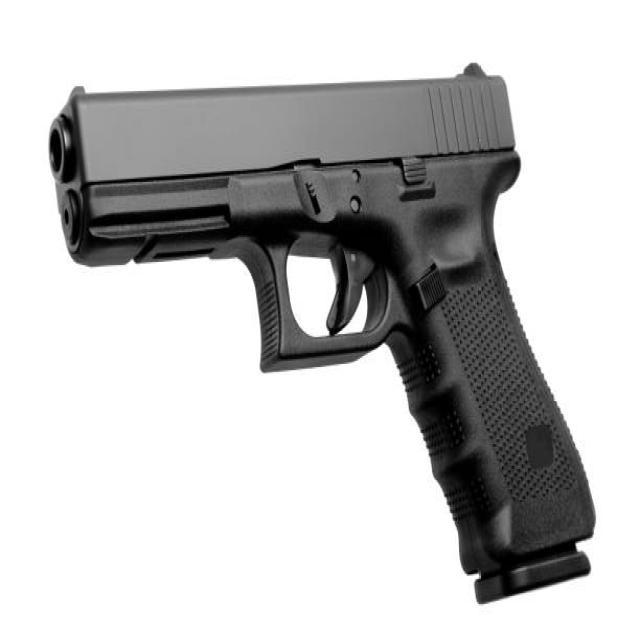pistol: (48, 58, 609, 612)
